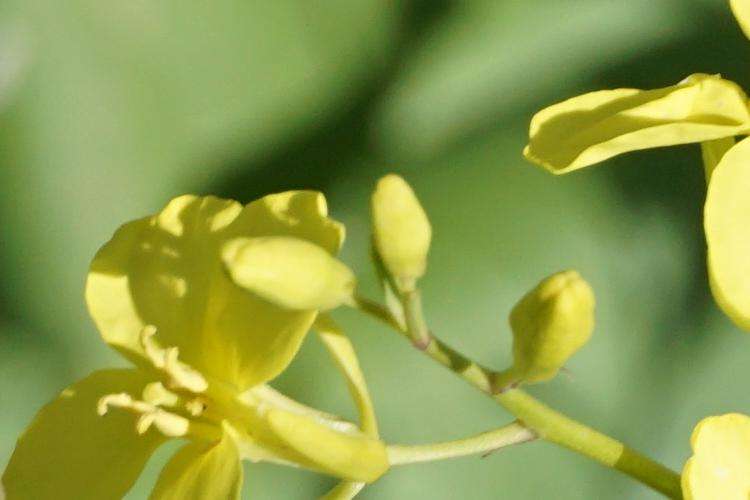bud: (216, 225, 362, 323), (506, 261, 606, 400), (363, 172, 448, 295)
yellow: (21, 181, 388, 500), (524, 59, 750, 335), (680, 409, 750, 500)
